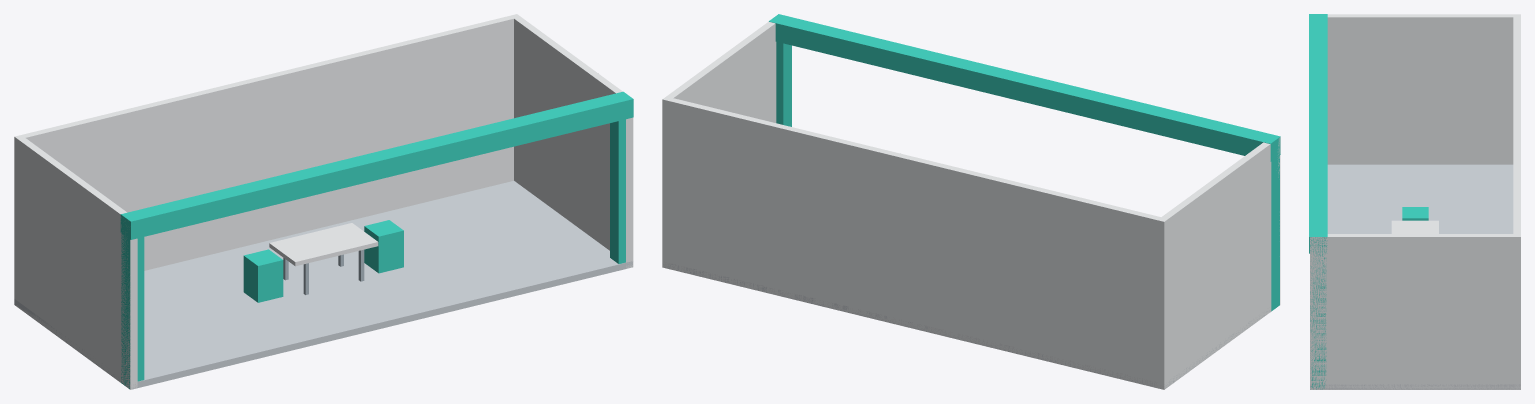
3 views of the same model, side by side, from view 1: azimuth 30°, elevation 25°; view 2: azimuth 150°, elevation 25°; view 3: azimuth 270°, elevation 25° (orthographic). The views are drawn at different scales.
Parts seen in each view (by area): view 1: Exhibition Booth Concept; view 2: Exhibition Booth Concept; view 3: Exhibition Booth Concept.
Part boxes in pixels (x1=…): Exhibition Booth Concept: x1=14, y1=14, x2=633, y2=389; Exhibition Booth Concept: x1=662, y1=14, x2=1280, y2=389; Exhibition Booth Concept: x1=1309, y1=14, x2=1520, y2=389.
Bounding box in the file's own units: 10 × 3.2 × 4.02.
